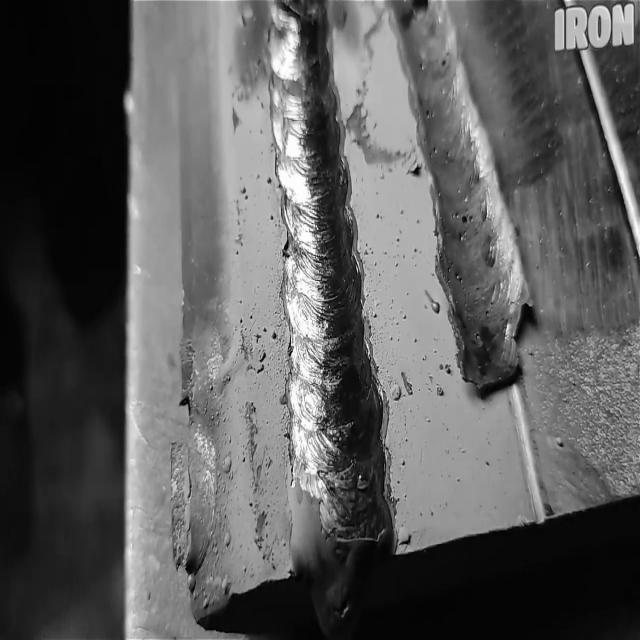Good Welding: (266, 1, 374, 486)
